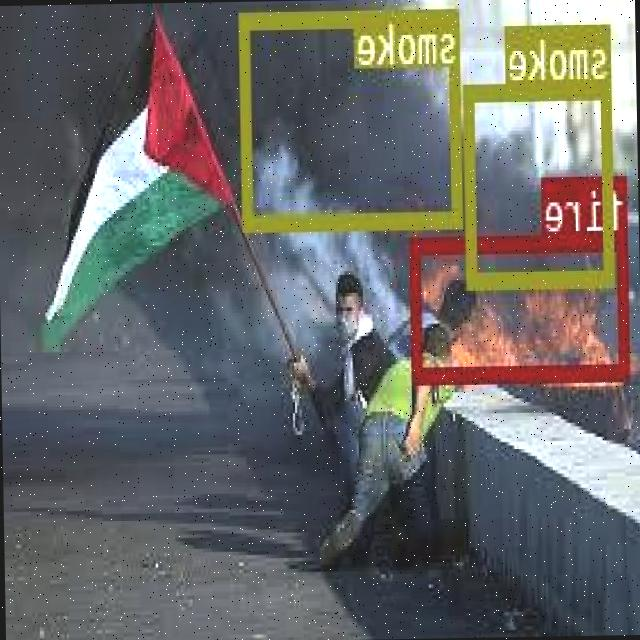fire: (412, 230, 632, 382)
smoke: (242, 5, 464, 226), (464, 79, 616, 284)
